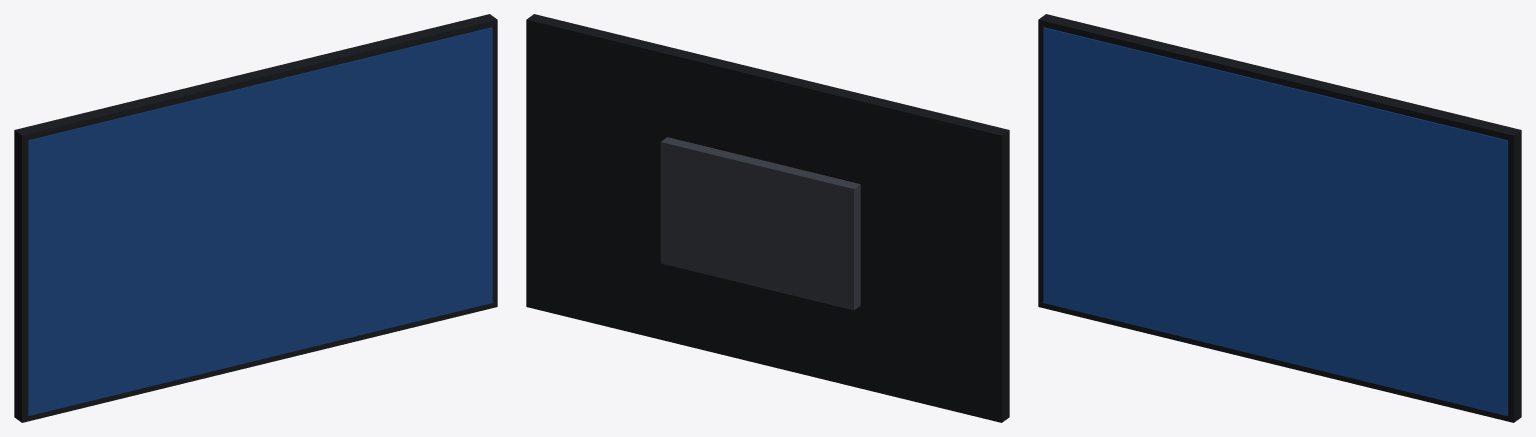
Rendered from tv-painel.glb.
3 renders of one model, left to right at view 1: azimuth 30°, elevation 25°; view 2: azimuth 150°, elevation 25°; view 3: azimuth 330°, elevation 25°, orthographic.
Visible parts, largest first — view 1: tvWall; view 2: tvWall; view 3: tvWall.
Part boxes in pixels (x1,y1,x2,y2): tvWall: [14, 14, 497, 422]; tvWall: [526, 14, 1009, 422]; tvWall: [1038, 14, 1521, 422].
Bounding box in the file's own units: 1.23 × 0.71 × 0.069.
